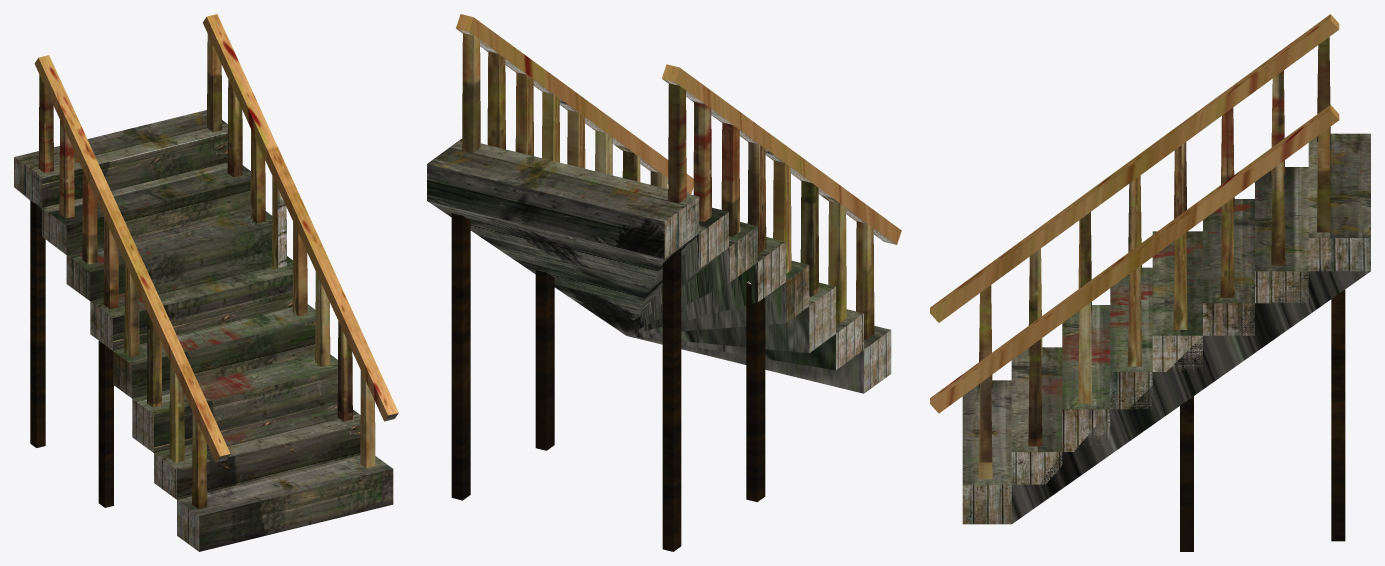
The model's file is Basement Stairs Model.fbx.
The picture shows the model from 3 angles, left to right: view 1: azimuth 30°, elevation 25°; view 2: azimuth 150°, elevation 25°; view 3: azimuth 270°, elevation 25°; orthographic projection. The views are drawn at different scales.
Visible parts, largest first — view 1: polySurface24; view 2: polySurface24; view 3: polySurface24.
Part boxes in pixels (bbox=[...]): polySurface24: bbox=[14, 14, 398, 551]; polySurface24: bbox=[427, 14, 901, 551]; polySurface24: bbox=[930, 14, 1370, 551].
Size of the model in its own units: 4.02 by 7.92 by 7.17.
1 material, 1 textured.
